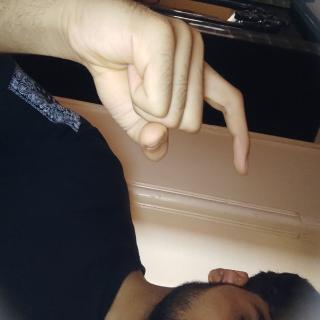RAA: (0, 83, 132, 320)
